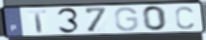0: (141, 5, 170, 32)
3: (54, 7, 82, 35)
7: (83, 7, 110, 34)
C: (174, 5, 196, 30)
G: (114, 6, 140, 32)
T: (27, 9, 49, 33)
